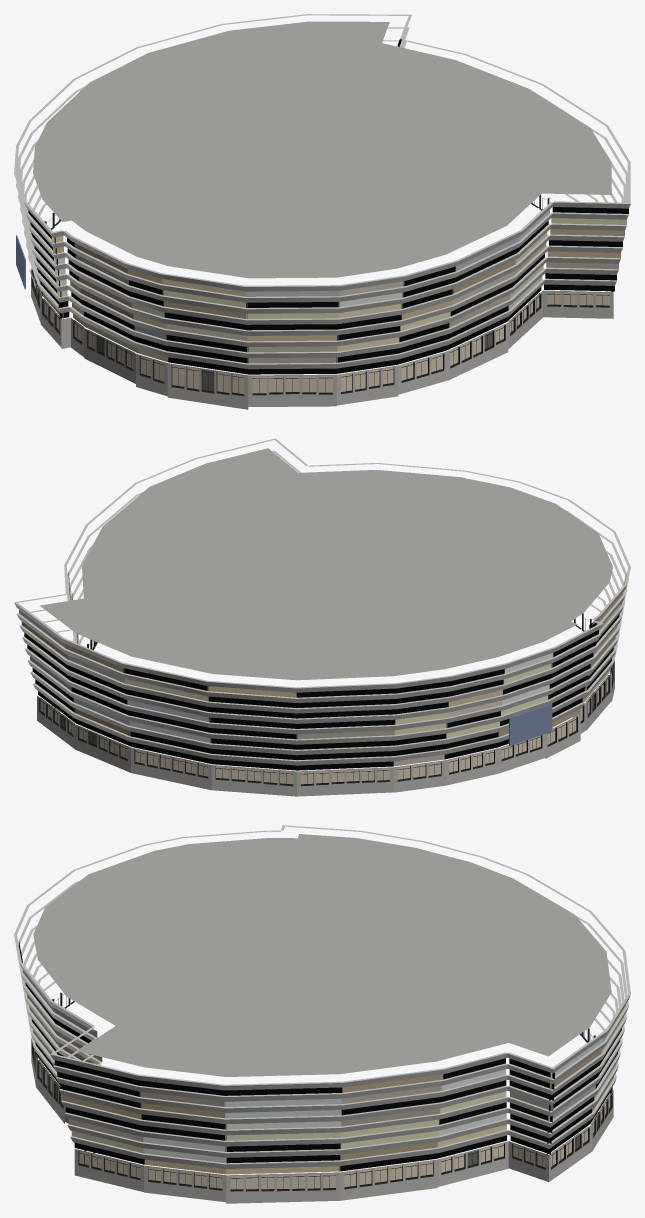
The model's file is chase_lod0.glb.
The picture shows the model from 3 angles, top to bottom: view 1: azimuth 30°, elevation 25°; view 2: azimuth 150°, elevation 25°; view 3: azimuth 270°, elevation 25°; orthographic projection. The views are drawn at different scales.
Visible parts, largest first — view 1: L0_roof, L0_paint, L0_win, L0_concrete, L0_shop, L0_metal; view 2: L0_roof, L0_paint, L0_win, L0_concrete, L0_shop, L0_metal, L0_neon; view 3: L0_roof, L0_paint, L0_win, L0_concrete, L0_shop, L0_metal.
Part boxes in pixels (left/top/right/bottom): L0_roof: left=33, top=21, right=611, bottom=278; L0_paint: left=14, top=14, right=630, bottom=369; L0_win: left=27, top=39, right=628, bottom=374; L0_concrete: left=31, top=269, right=613, bottom=409; L0_shop: left=34, top=275, right=609, bottom=394; L0_metal: left=31, top=195, right=613, bottom=396; L0_roof: left=40, top=448, right=612, bottom=680; L0_paint: left=14, top=438, right=630, bottom=765; L0_win: left=19, top=572, right=626, bottom=770; L0_concrete: left=37, top=660, right=614, bottom=796; L0_shop: left=40, top=668, right=610, bottom=784; L0_metal: left=39, top=613, right=614, bottom=786; L0_neon: left=508, top=703, right=552, bottom=745; L0_roof: left=33, top=834, right=611, bottom=1076; L0_paint: left=14, top=825, right=630, bottom=1168; L0_win: left=19, top=941, right=625, bottom=1174; L0_concrete: left=31, top=1038, right=613, bottom=1203; L0_shop: left=36, top=1054, right=610, bottom=1189; L0_metal: left=31, top=992, right=612, bottom=1191.
Size of the model in its own units: 168 by 39.67 by 168.
